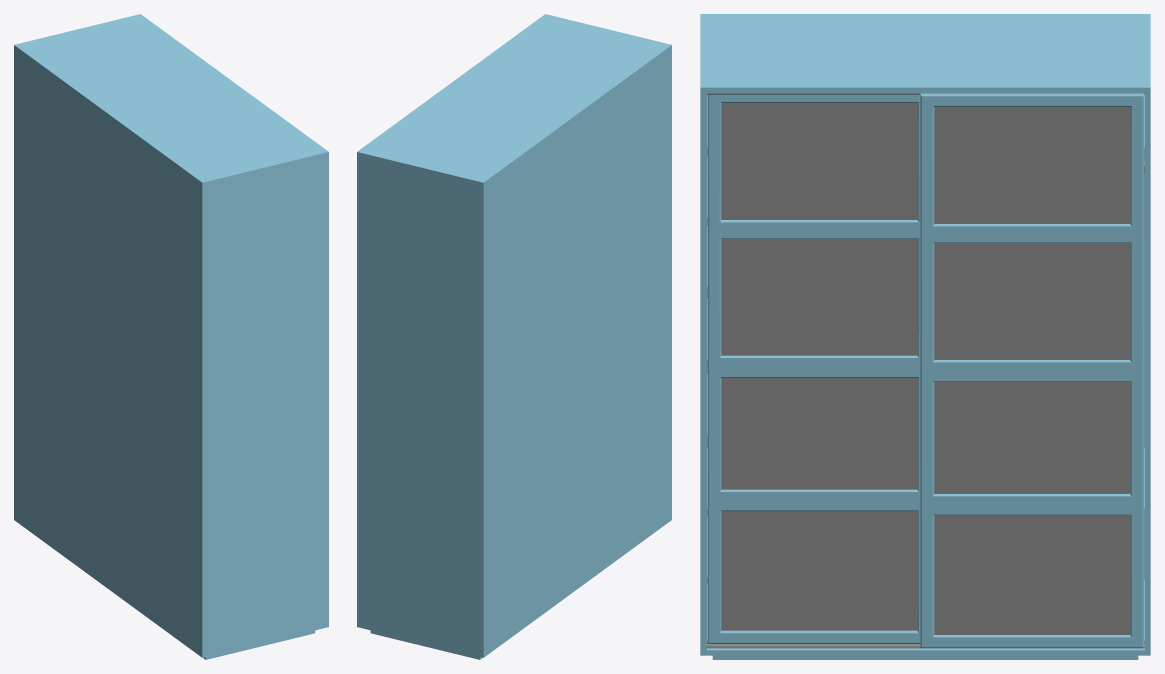
The model's file is FURNITURE_wardrobe_01.FBX.
3 renders of one model, left to right at view 1: azimuth 30°, elevation 25°; view 2: azimuth 150°, elevation 25°; view 3: azimuth 270°, elevation 25°, orthographic. The views are drawn at different scales.
Parts seen in each view (by area): view 1: FURNITURE_wardrobe_01; view 2: FURNITURE_wardrobe_01; view 3: FURNITURE_wardrobe_01_rightDoor, FURNITURE_wardrobe_01_leftDoor, FURNITURE_wardrobe_01.
Part boxes in pixels (box(x1,y1,x2,y2)): FURNITURE_wardrobe_01: box(14, 14, 328, 659); FURNITURE_wardrobe_01: box(357, 14, 671, 659); FURNITURE_wardrobe_01_rightDoor: box(920, 93, 1144, 648); FURNITURE_wardrobe_01_leftDoor: box(707, 94, 920, 643); FURNITURE_wardrobe_01: box(700, 14, 1150, 659).
Size of the model in its own units: 84.97 by 310 by 219.
